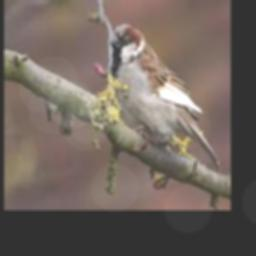Sparrow: (110, 22, 221, 172)
